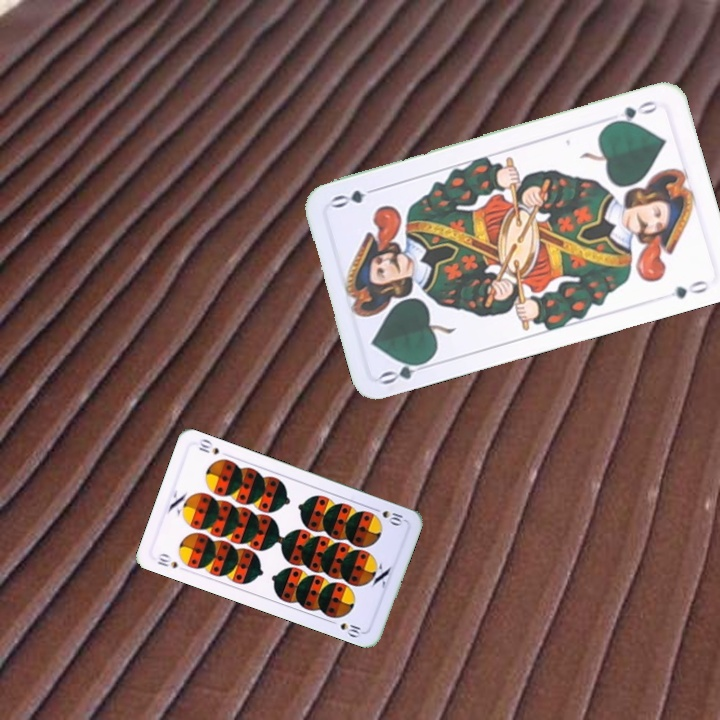GO: (376, 355, 435, 388), (605, 96, 660, 127)
S10: (368, 503, 405, 528), (153, 549, 180, 571)
